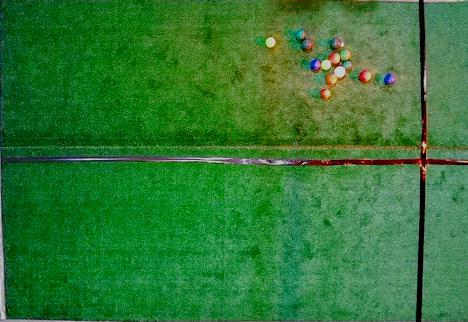blue: (384, 73, 396, 85), (310, 60, 321, 70)
green: (340, 49, 351, 61), (301, 39, 312, 50), (330, 38, 340, 49), (296, 30, 306, 41), (343, 61, 352, 69)
red: (359, 71, 371, 83), (334, 66, 346, 78), (326, 73, 337, 85), (329, 53, 340, 64), (320, 89, 331, 99)
vline: (415, 1, 468, 321), (0, 1, 9, 321)
white: (340, 42, 344, 47)
yellow: (265, 37, 276, 48), (321, 59, 331, 70)
